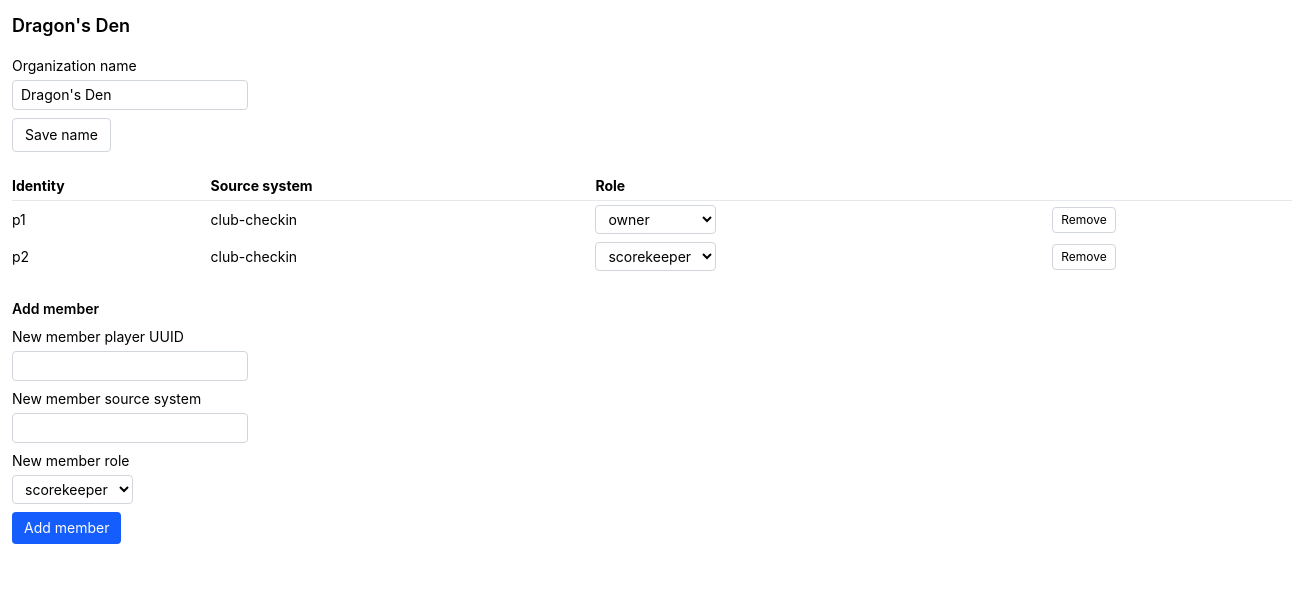
OrganizationDetail › surfaces the lockout-guard 409 inline
The image size is (1292, 615).
Expected: the text "p1" is shown, [12, 200, 211, 238]
Click the button "Remove" in the row of "p1" at (1084, 220), box [1052, 206, 1116, 232]
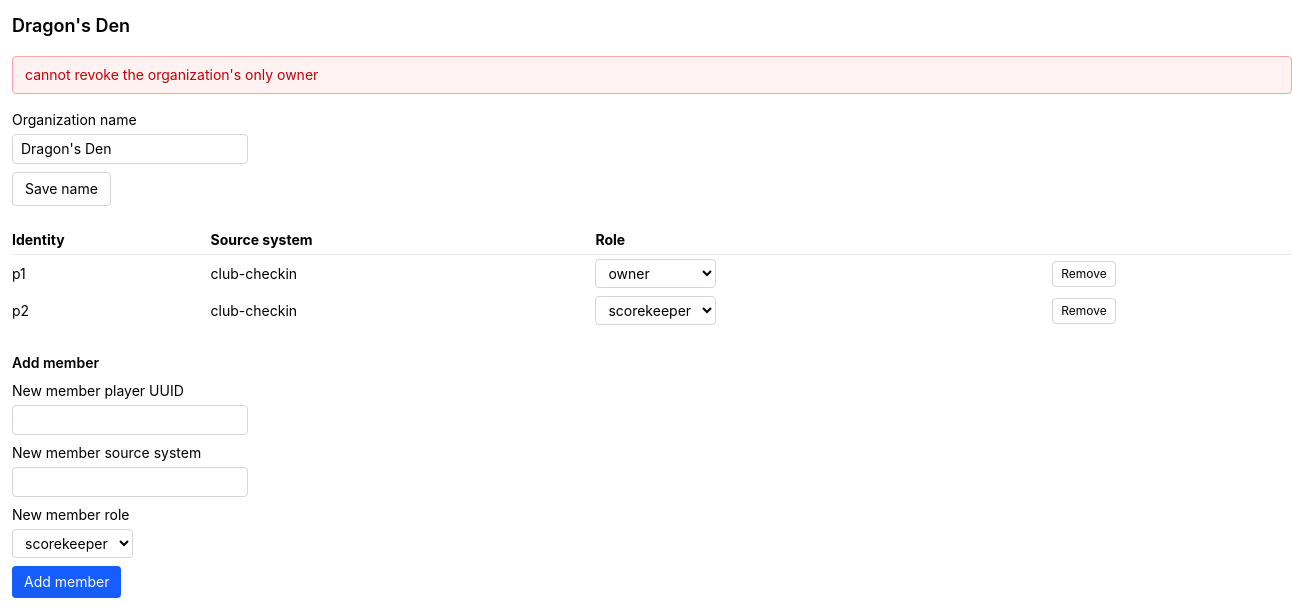
Now the message reads "cannot revoke the organization's only owner", box [25, 66, 318, 83]
